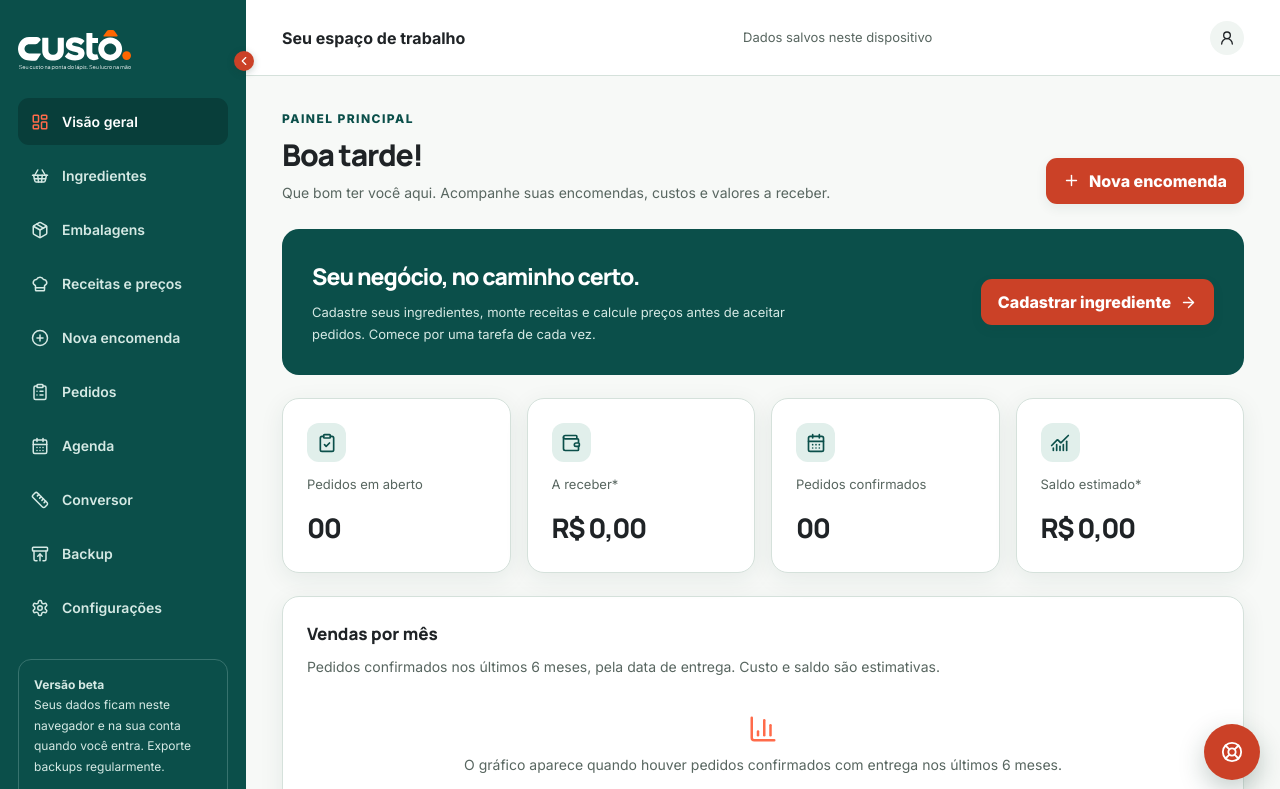
Test: Cadastro simples de ingrediente › cadastra com só os quatro campos: sem abrir ajustes, sem jargão e sem detalhes técnicos na tela
Click the button "Ingredientes": (123, 176) [18, 152, 228, 199]
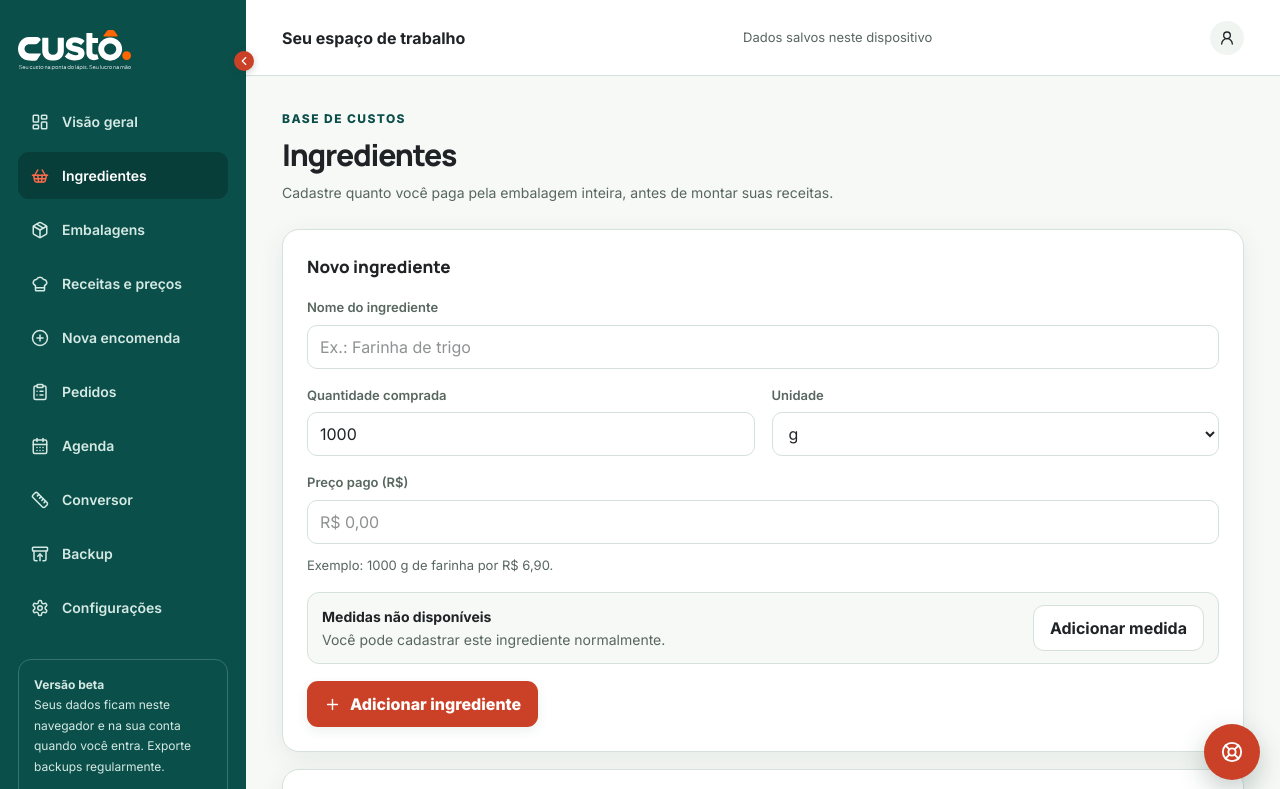
Result: the text "Medidas não disponíveis" is shown at [322, 608, 491, 625]
Result: the text "Você pode cadastrar este ingrediente normalmente." is shown at [322, 629, 665, 650]
In the field labelled "Nome do ingrediente": (763, 347) [307, 325, 1219, 369], type "Ingrediente totalmente desconhecido"
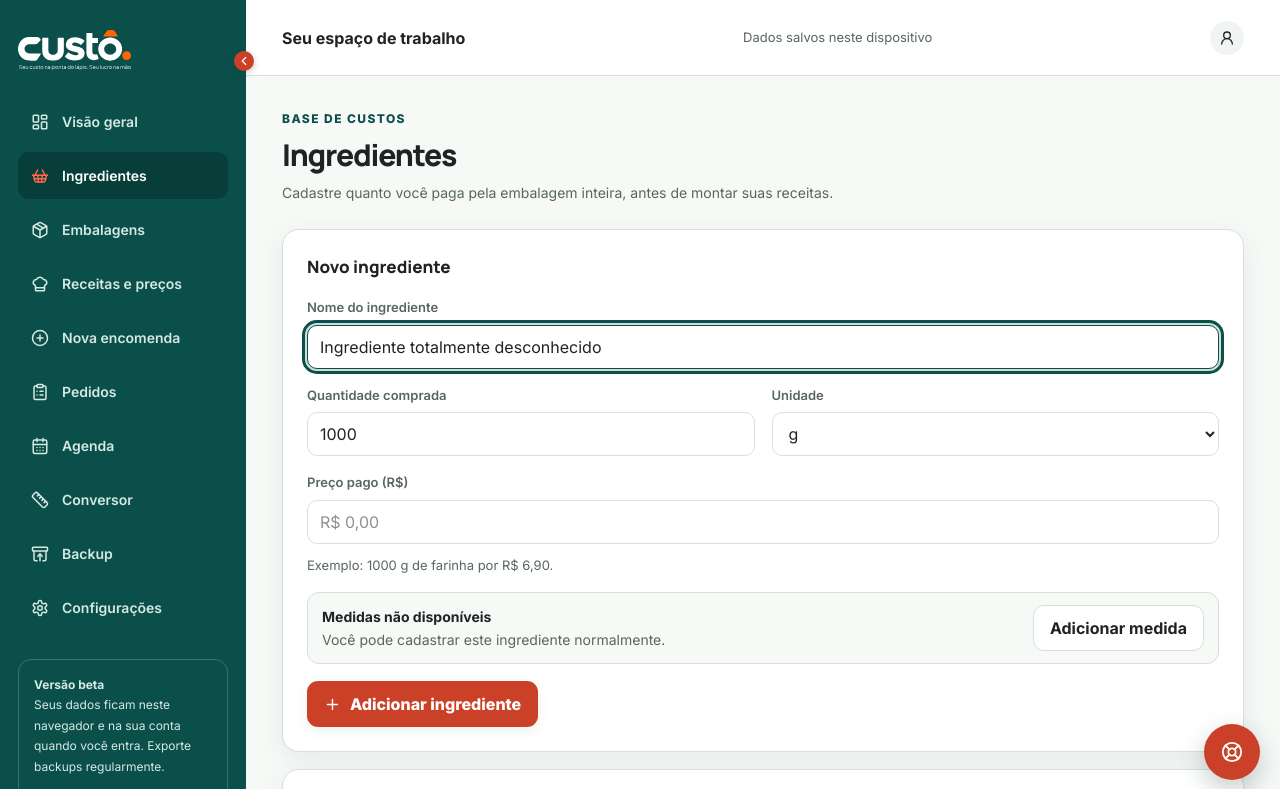
In the field labelled "Preço pago (R$)": (763, 522) [307, 500, 1219, 544], type "6"
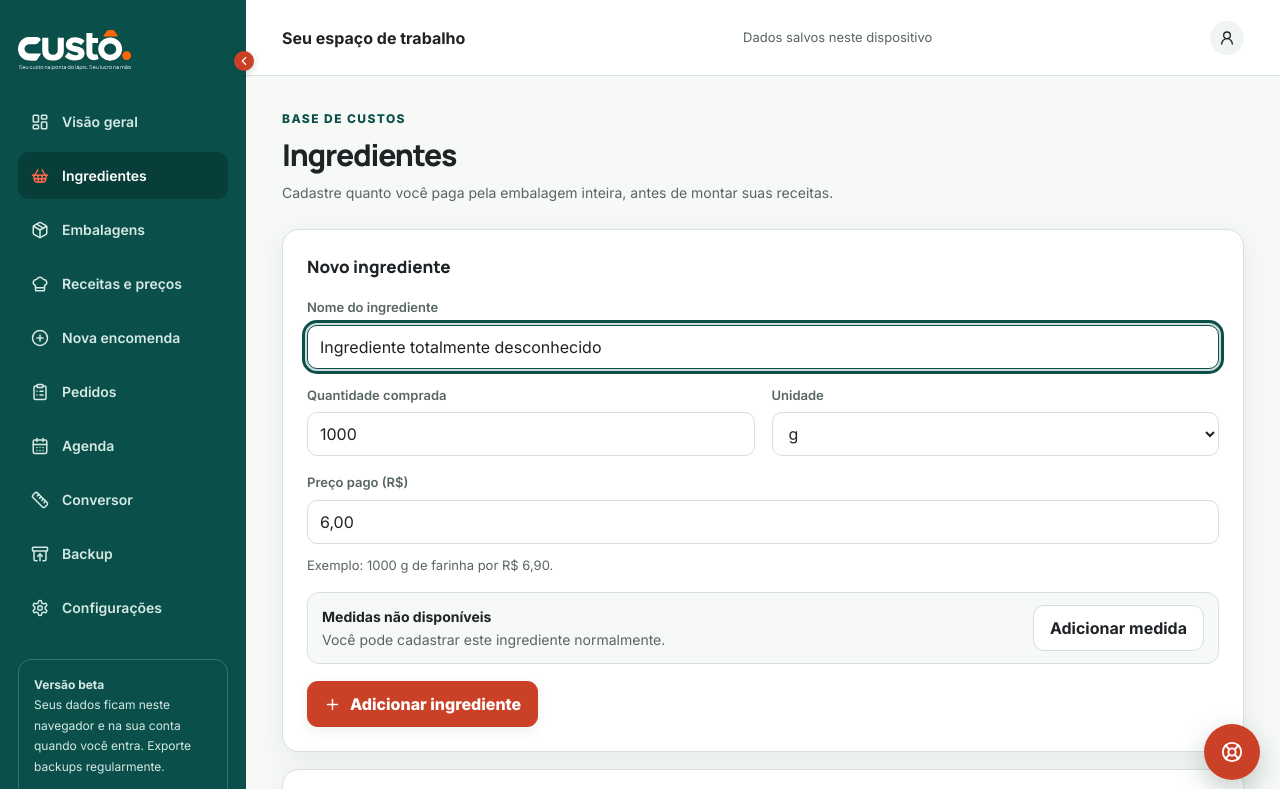
Click the button "Adicionar ingrediente": (423, 704) [307, 681, 538, 727]
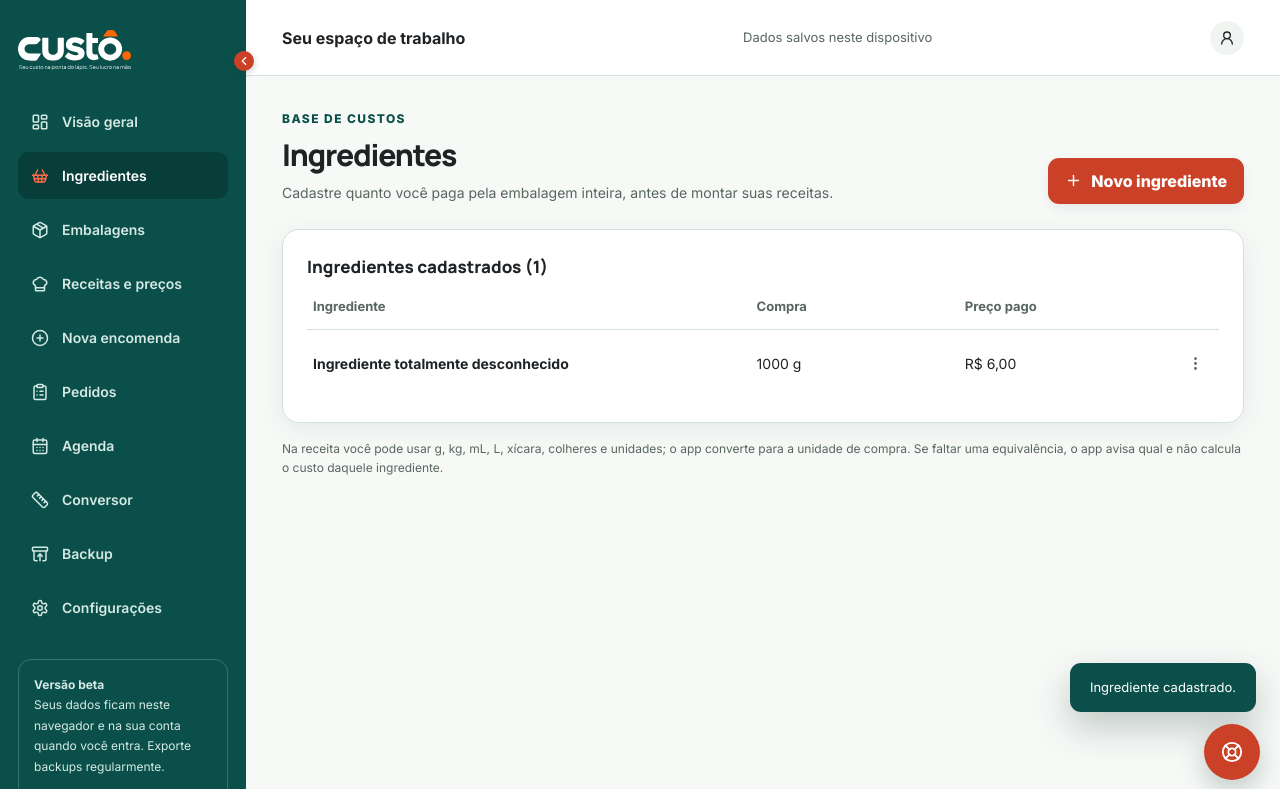
Expected: the text "Ingrediente totalmente desconhecido" does not show "xícara"
Result: the text "Ingrediente cadastrado." is shown at [1070, 662, 1256, 712]
